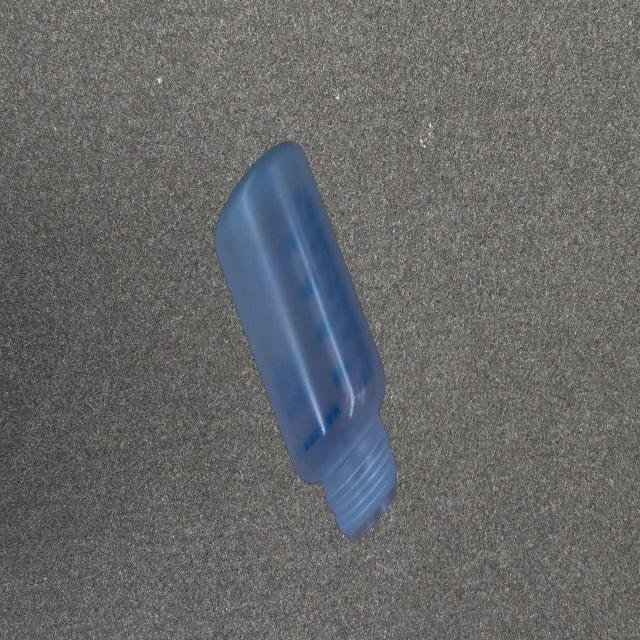bottle: (210, 133, 402, 545)
